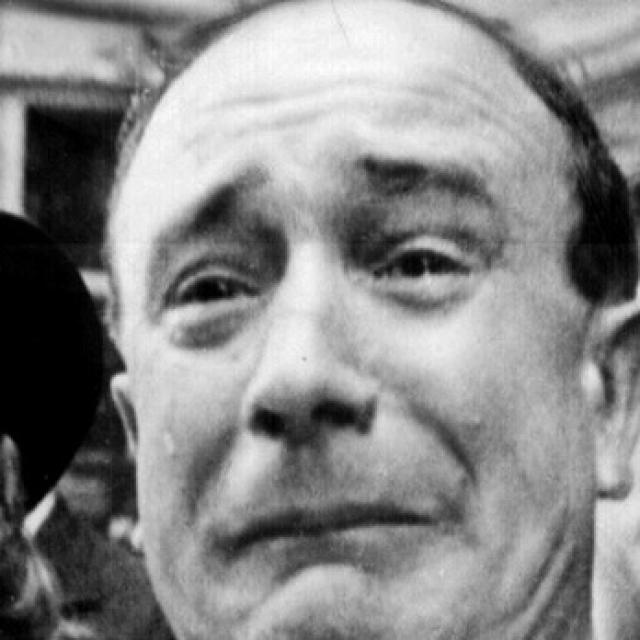Depress: (105, 3, 595, 638)
